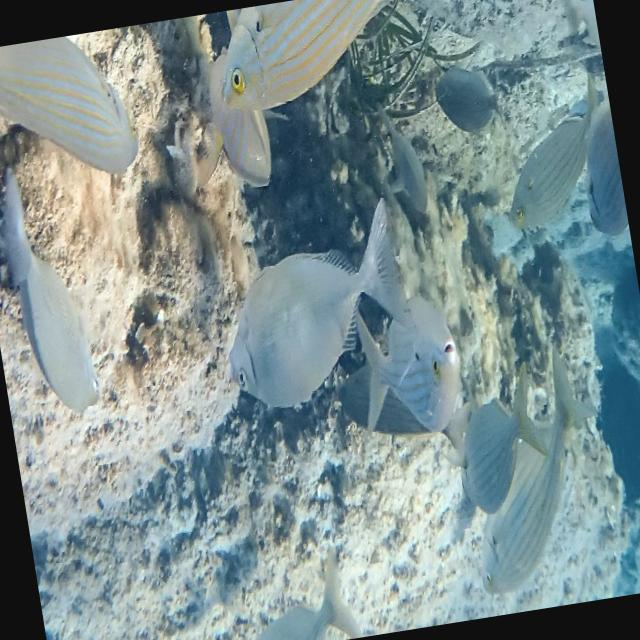Sokar Baligi: (200, 188, 432, 424), (0, 155, 111, 437), (480, 54, 630, 250)
